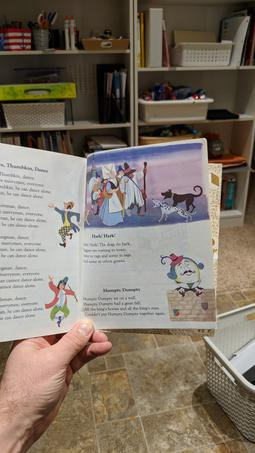text block: (1, 154, 47, 321), (76, 282, 167, 319), (78, 230, 144, 270)
